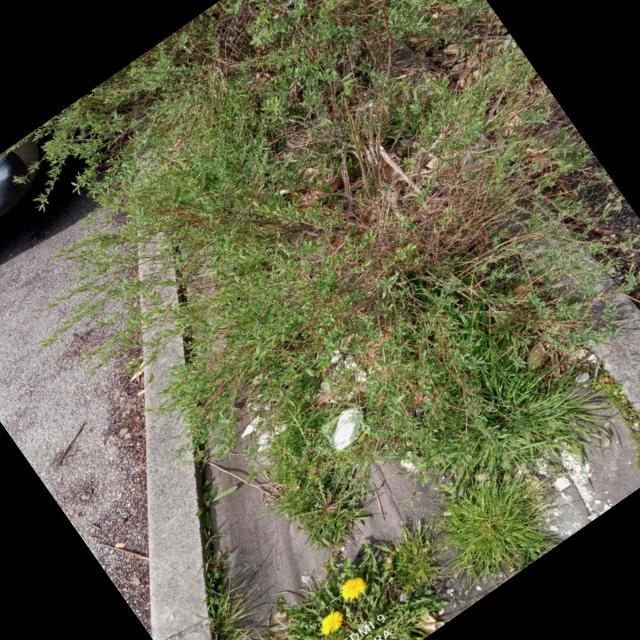Unlabeled litter: (321, 404, 372, 452)
